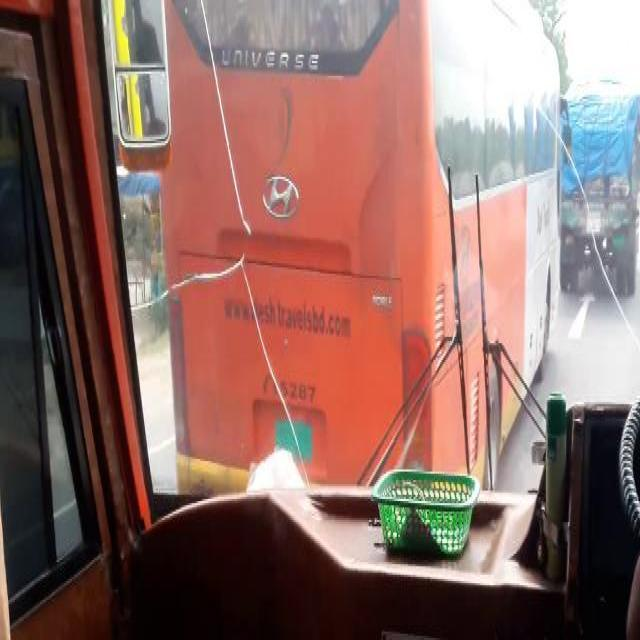18: (559, 80, 639, 293)
Truck: (168, 6, 562, 482)
